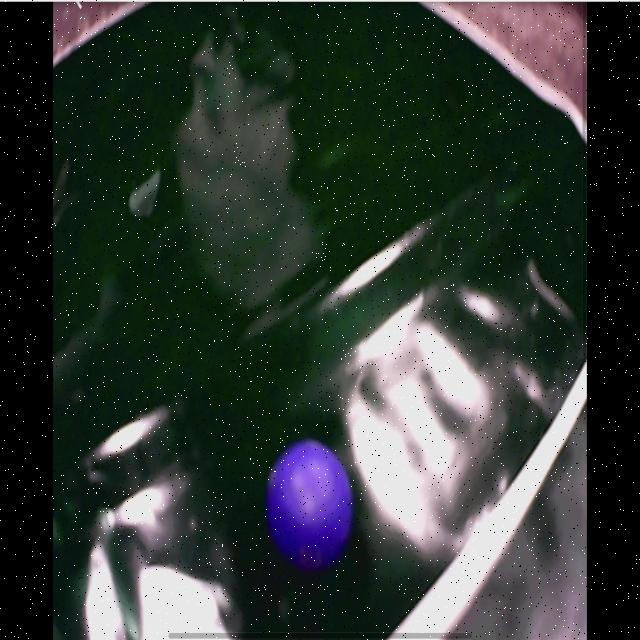ball: (267, 443, 354, 566)
